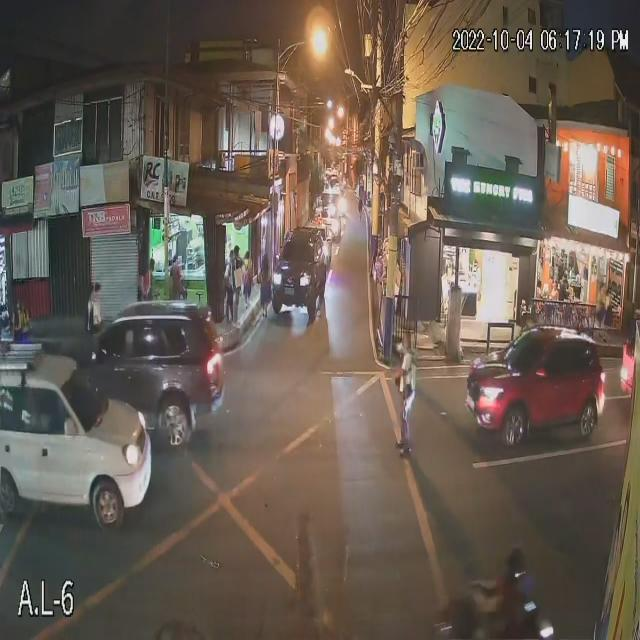motorcycle: (438, 581, 555, 639)
